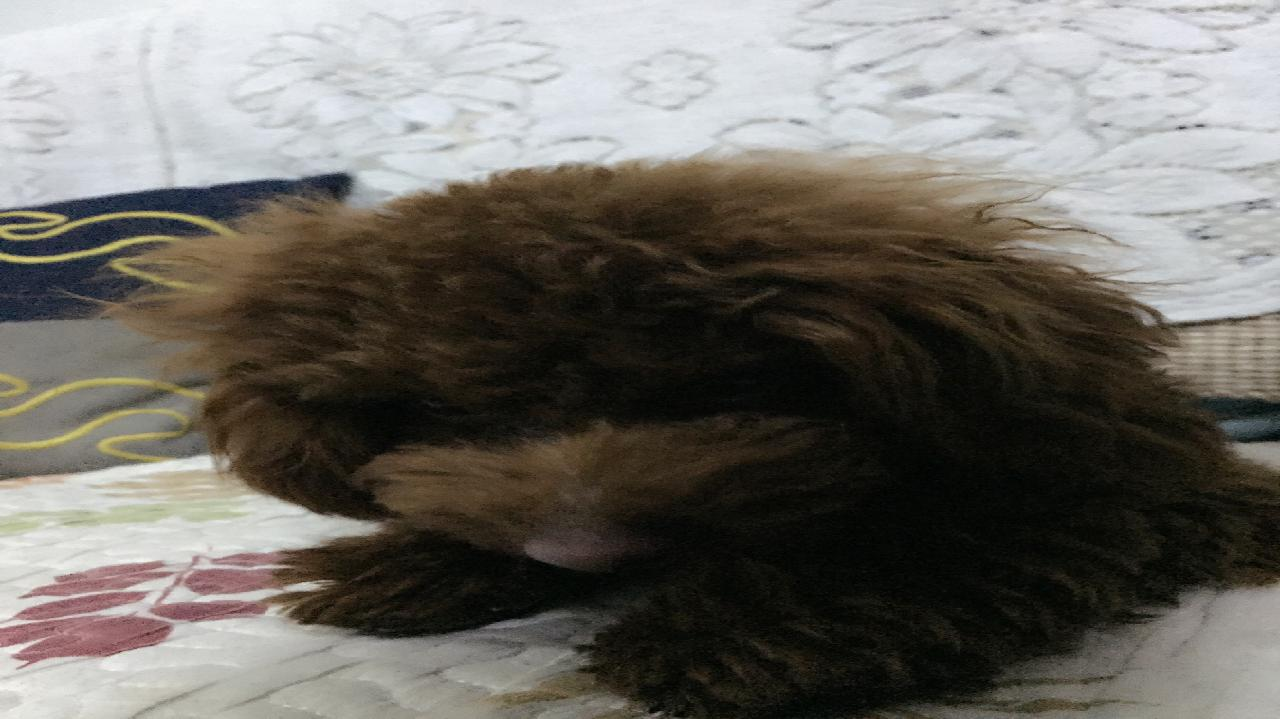zhuangzhuang: (173, 154, 1185, 694)
